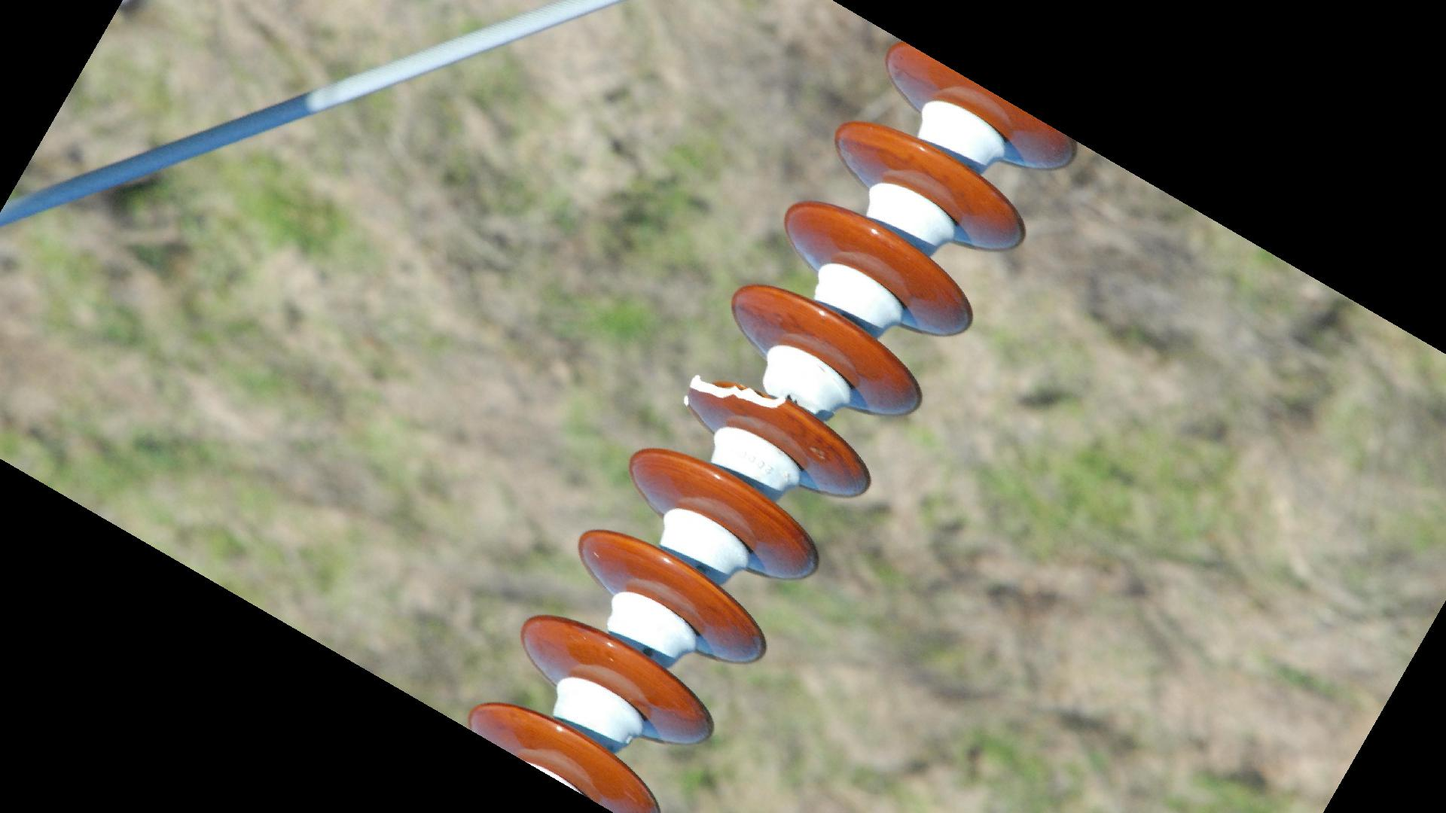insulator: (462, 36, 1091, 813)
insulator_breakage: (673, 364, 807, 427)
